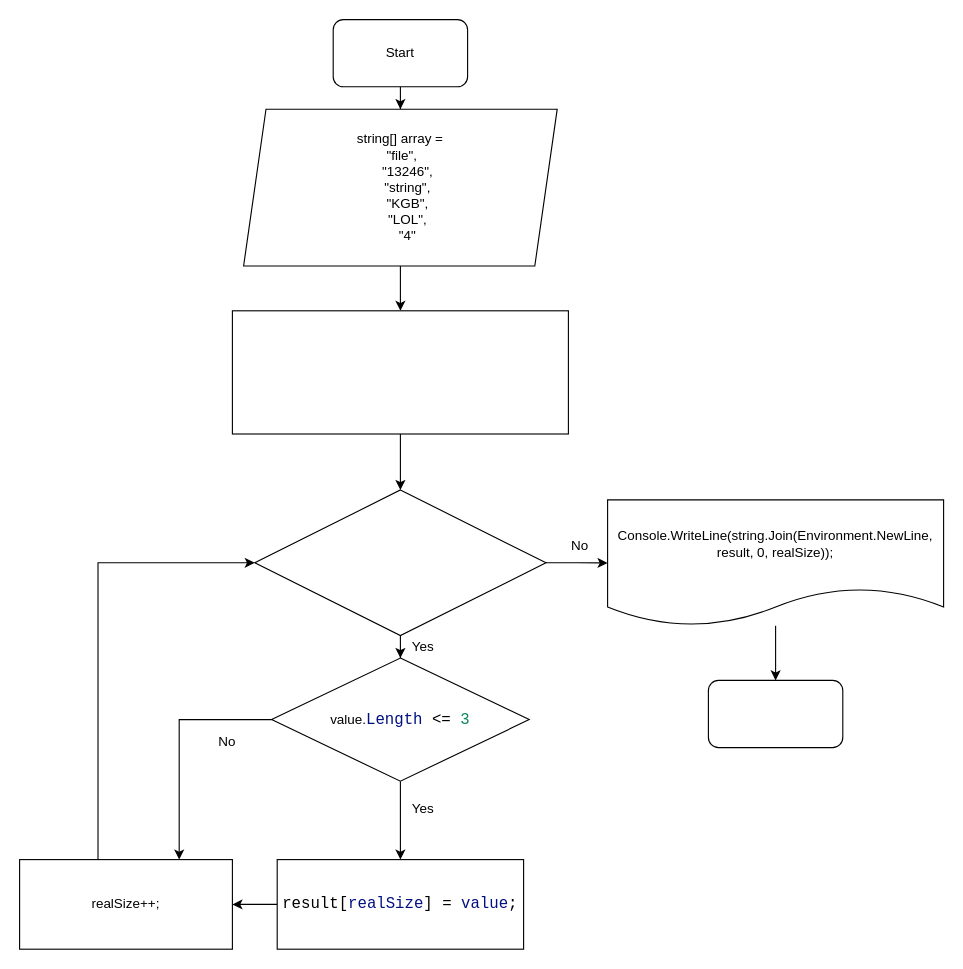
Some shapes in this 963 by 969 pixel diagram are drawn without their labels. Here are the shapes that lost their labels. From the top down, the centre of each, then its label:
At [399,372]: "var result = new string[array.Length]; var realSize = 0;".
At [400,562]: "foreach (var value in array)".
At [775,713]: "end".
